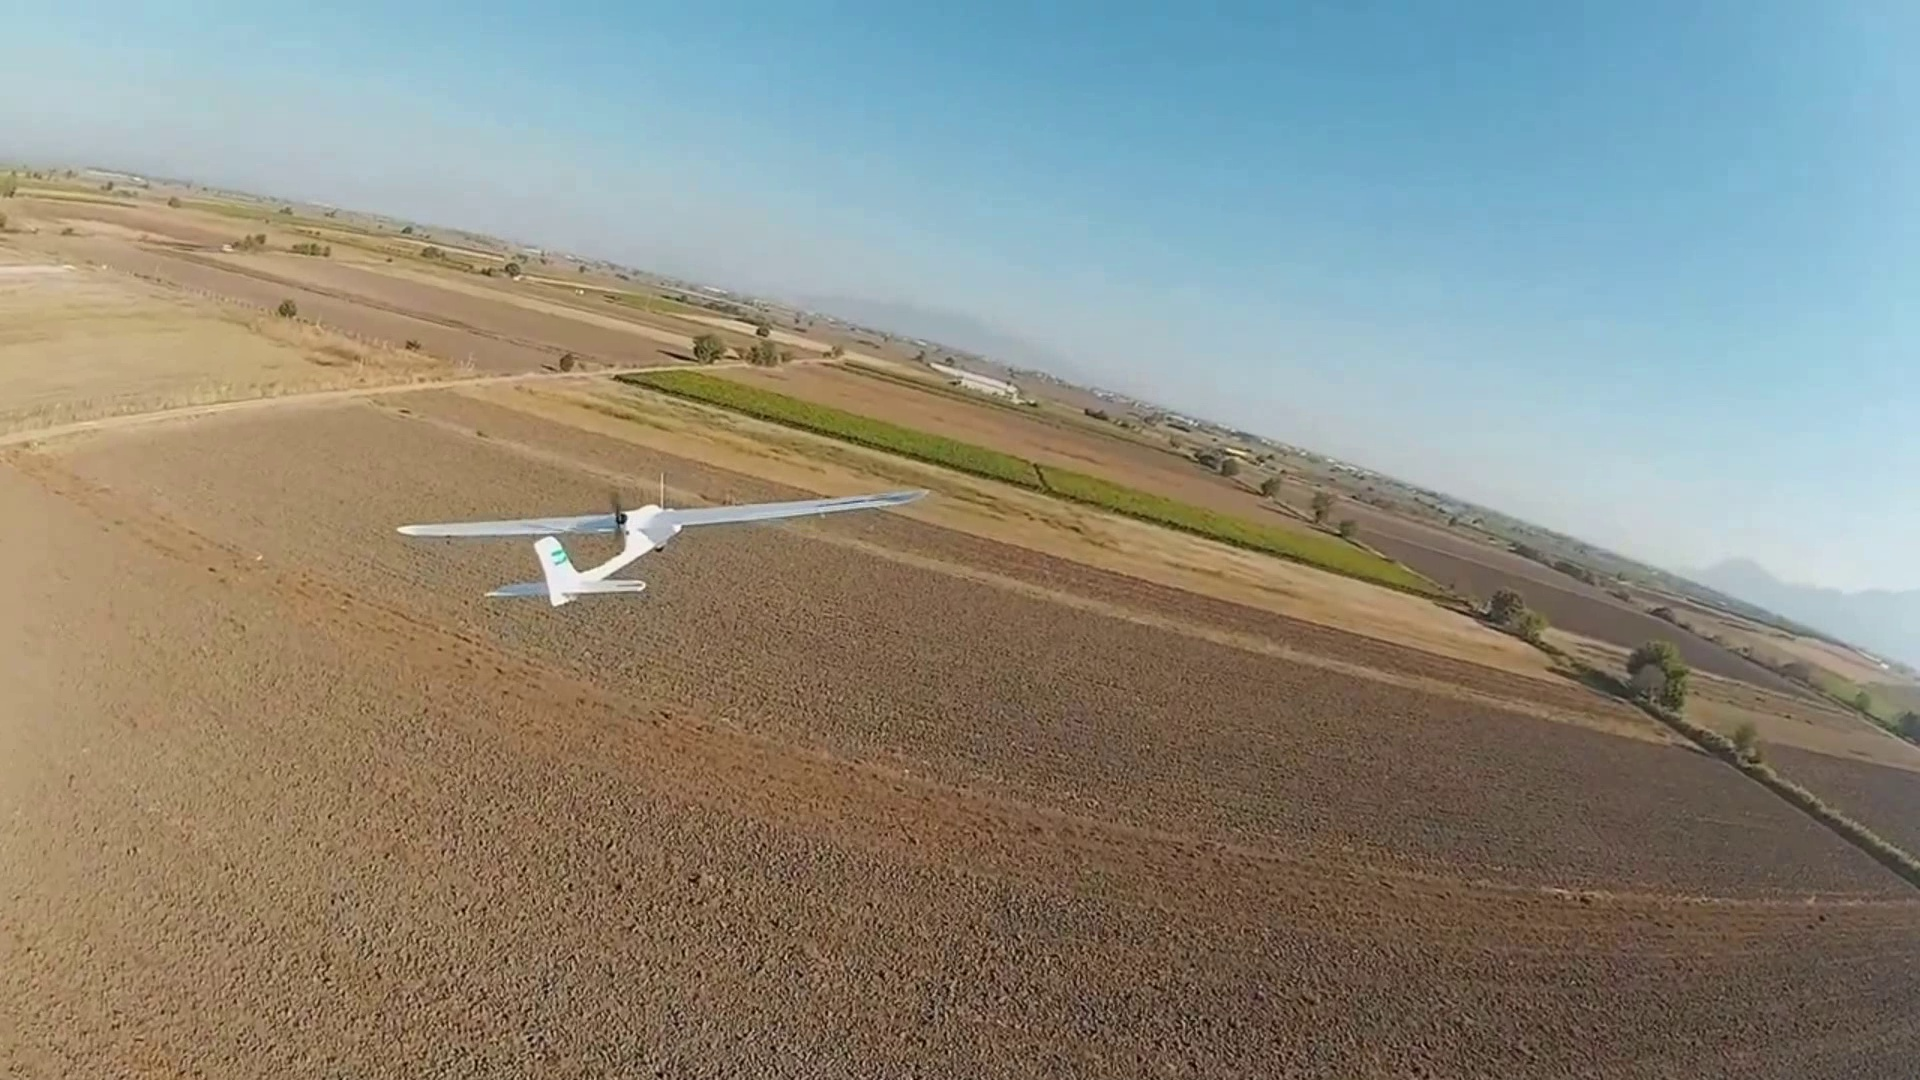airplane: (394, 492, 928, 611)
